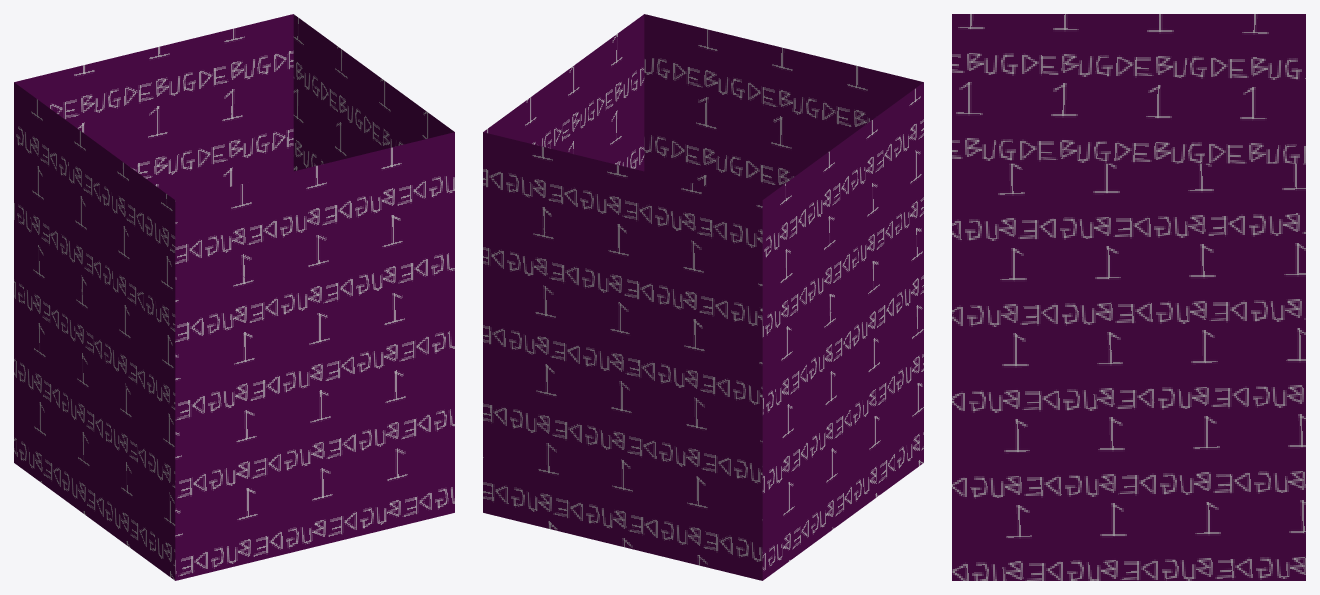
Rendered from Chatterbox_debug.glb.
The picture shows the model from 3 angles, left to right: view 1: azimuth 30°, elevation 25°; view 2: azimuth 150°, elevation 25°; view 3: azimuth 270°, elevation 25°; orthographic projection. The views are drawn at different scales.
Parts seen in each view (by area): view 1: ONE; view 2: ONE; view 3: ONE.
Boxes of the visible parts, x1,y1,x2,y2 form: ONE: (14,14,454,580); ONE: (483,14,923,580); ONE: (952,14,1305,580).
Size of the model in its own units: 7.48 by 9.74 by 7.48.
3 materials, 3 textured.
